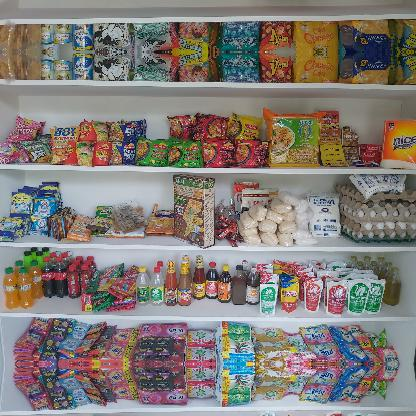Koko-Krunch: (171, 170, 216, 252)
